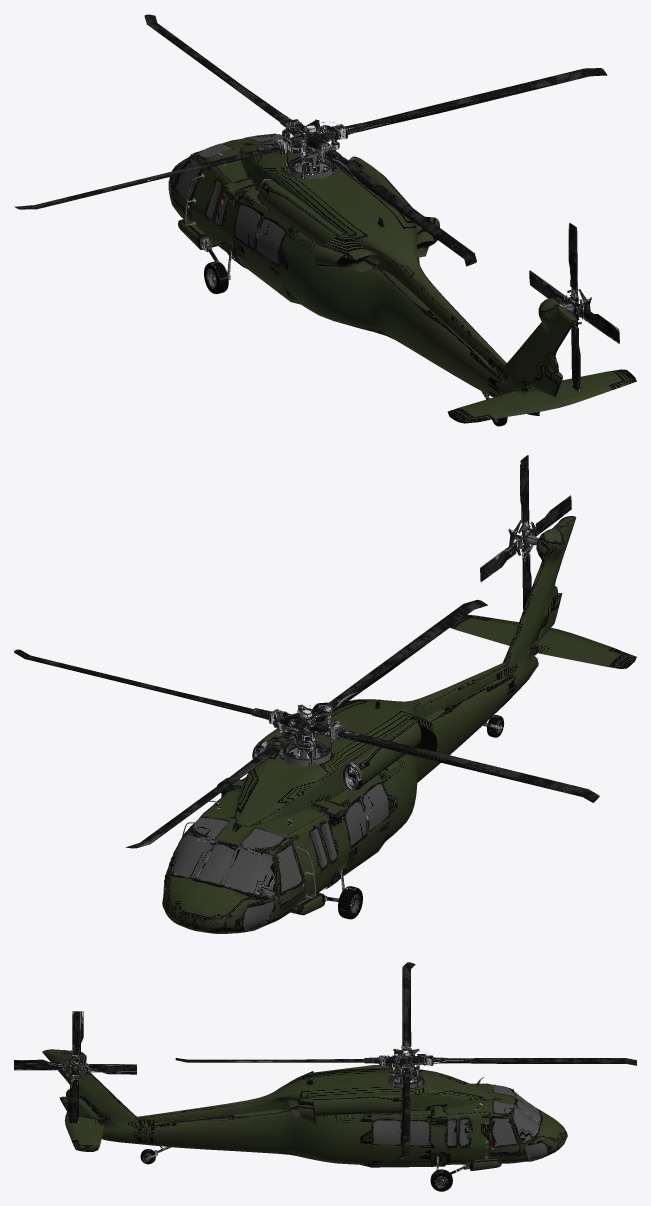
Rendered from heli.glb.
The picture shows the model from 3 angles, top to bottom: view 1: azimuth 30°, elevation 25°; view 2: azimuth 150°, elevation 25°; view 3: azimuth 270°, elevation 25°; orthographic projection. The views are drawn at different scales.
Parts seen in each view (by area): view 1: Object_5, Object_6, Object_7, Object_8, Object_4; view 2: Object_5, Object_6, Object_7, Object_8, Object_4; view 3: Object_5, Object_6, Object_7, Object_4, Object_9, Object_8.
Part boxes in pixels (bbox=[...]): Object_5: bbox=[168, 133, 636, 423]; Object_6: bbox=[14, 14, 619, 392]; Object_7: bbox=[168, 134, 284, 263]; Object_8: bbox=[185, 136, 489, 399]; Object_4: bbox=[204, 261, 507, 426]; Object_5: bbox=[162, 516, 636, 933]; Object_6: bbox=[14, 455, 599, 848]; Object_7: bbox=[163, 784, 388, 930]; Object_8: bbox=[182, 703, 503, 901]; Object_4: bbox=[338, 715, 504, 919]; Object_5: bbox=[42, 1049, 567, 1170]; Object_6: bbox=[14, 962, 636, 1159]; Object_7: bbox=[373, 1085, 547, 1161]; Object_4: bbox=[140, 1149, 452, 1191]; Object_9: bbox=[373, 1100, 547, 1160]; Object_8: bbox=[147, 1077, 493, 1174].
Bounding box in the file's own units: 11.33 × 4.45 × 15.3.
8 materials, 7 textured.
